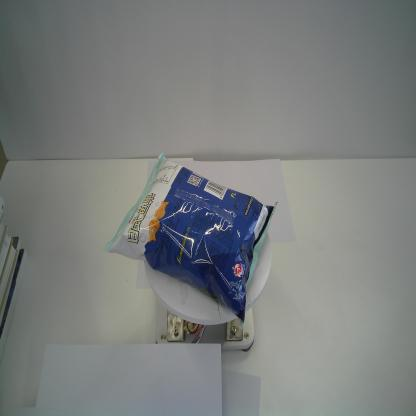Puffed Food: (102, 152, 278, 324)
